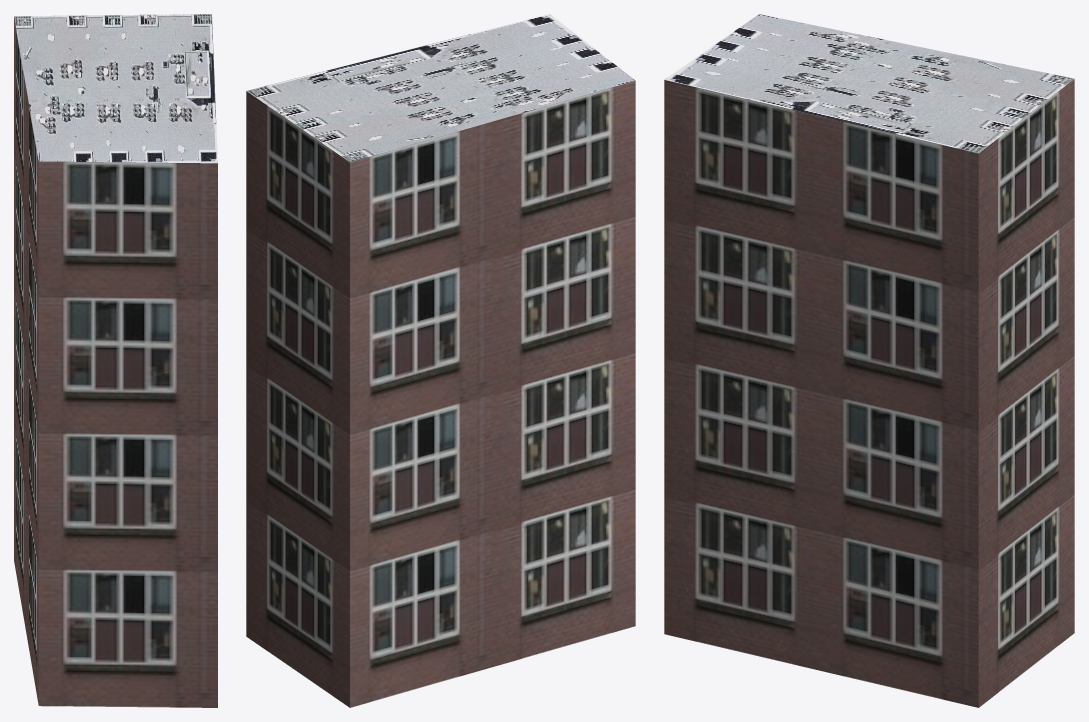
File: ResTex__594.fbx
3 renders of one model, left to right at view 1: azimuth 30°, elevation 25°; view 2: azimuth 150°, elevation 25°; view 3: azimuth 270°, elevation 25°, orthographic.
Visible parts, largest first — view 1: CityEngineMaterial_12_m, CityEngineMaterial_m; view 2: CityEngineMaterial_12_m, CityEngineMaterial_m; view 3: CityEngineMaterial_12_m, CityEngineMaterial_m.
Boxes of the visible parts, x1,y1,x2,y2 form: CityEngineMaterial_12_m: (14,17,217,707); CityEngineMaterial_m: (14,14,217,163); CityEngineMaterial_12_m: (246,80,635,707); CityEngineMaterial_m: (247,14,635,162); CityEngineMaterial_12_m: (664,79,1074,707); CityEngineMaterial_m: (664,14,1074,153).
Bounding box in the file's own units: 6.48 × 12 × 8.05.
2 materials, 2 textured.
